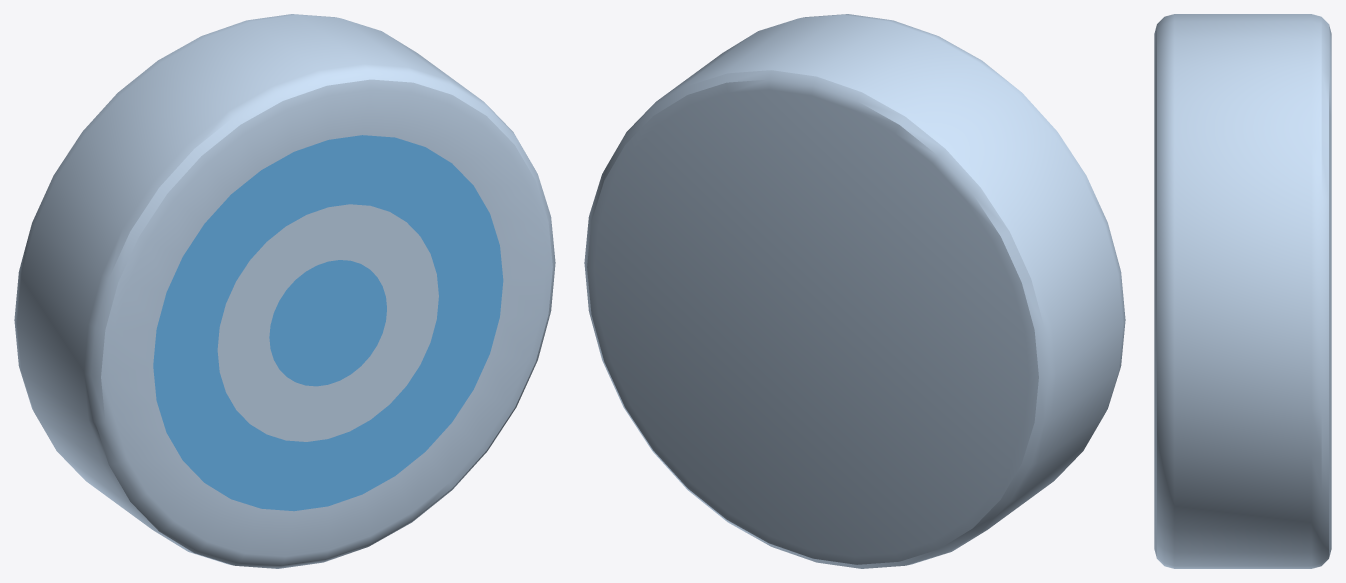
The model's file is target.gltf.
3 views of the same model, side by side, from view 1: azimuth 30°, elevation 25°; view 2: azimuth 150°, elevation 25°; view 3: azimuth 270°, elevation 25° (orthographic). The views are drawn at different scales.
Visible parts, largest first — view 1: Cylinder015_1, Cylinder015; view 2: Cylinder015_1; view 3: Cylinder015_1.
Part boxes in pixels (x1,y1,x2,y2): Cylinder015_1: (14,14,555,568); Cylinder015: (153,135,503,511); Cylinder015_1: (584,14,1125,568); Cylinder015_1: (1154,14,1331,568).
Bounding box in the file's own units: 1.37 × 1.37 × 0.4377.
